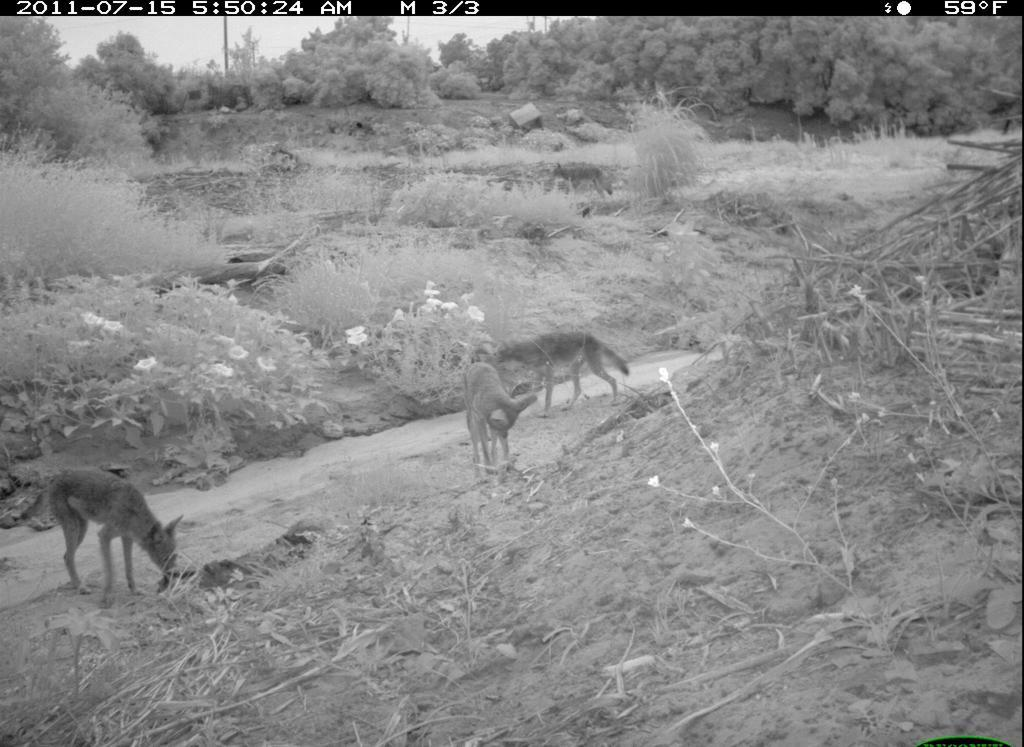coyote: (16, 461, 194, 614), (498, 322, 635, 406), (455, 361, 533, 477)
